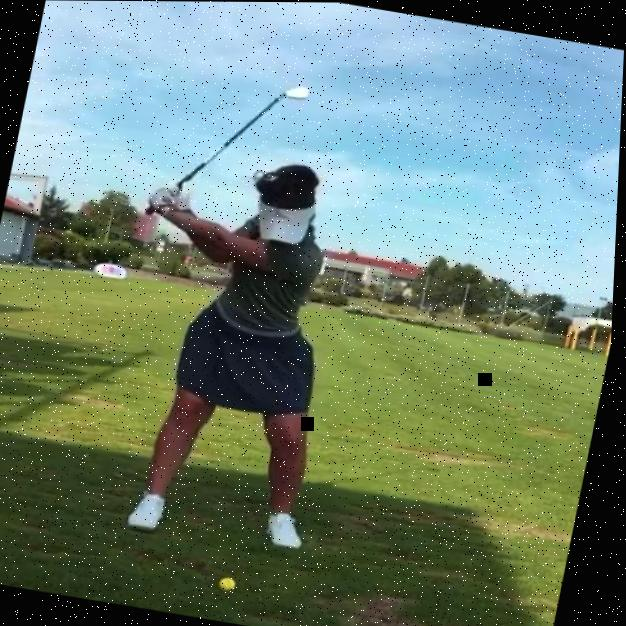ClubHead: (282, 83, 313, 103)
GolfBall: (221, 573, 242, 592)
